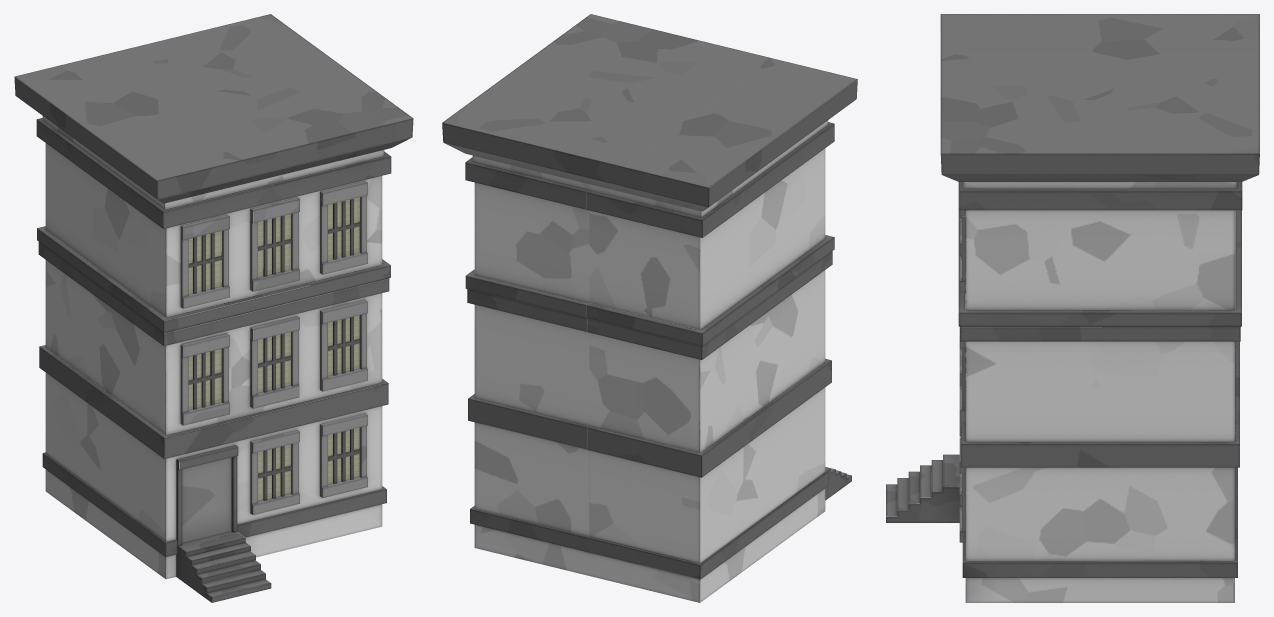
The model's file is CASA_OG.fbx.
The picture shows the model from 3 angles, left to right: view 1: azimuth 30°, elevation 25°; view 2: azimuth 150°, elevation 25°; view 3: azimuth 270°, elevation 25°; orthographic projection. The views are drawn at different scales.
Visible parts, largest first — view 1: CASA_OG_Baked; view 2: CASA_OG_Baked; view 3: CASA_OG_Baked.
Boxes of the visible parts, x1,y1,x2,y2 form: CASA_OG_Baked: (14, 14, 413, 602); CASA_OG_Baked: (442, 14, 857, 602); CASA_OG_Baked: (886, 14, 1259, 602).
Bounding box in the file's own units: 979 × 1501 × 1106.
1 material, 1 textured.
